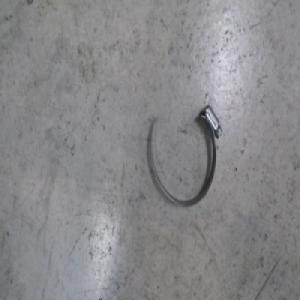AdjustableClamp: (146, 102, 222, 210)
